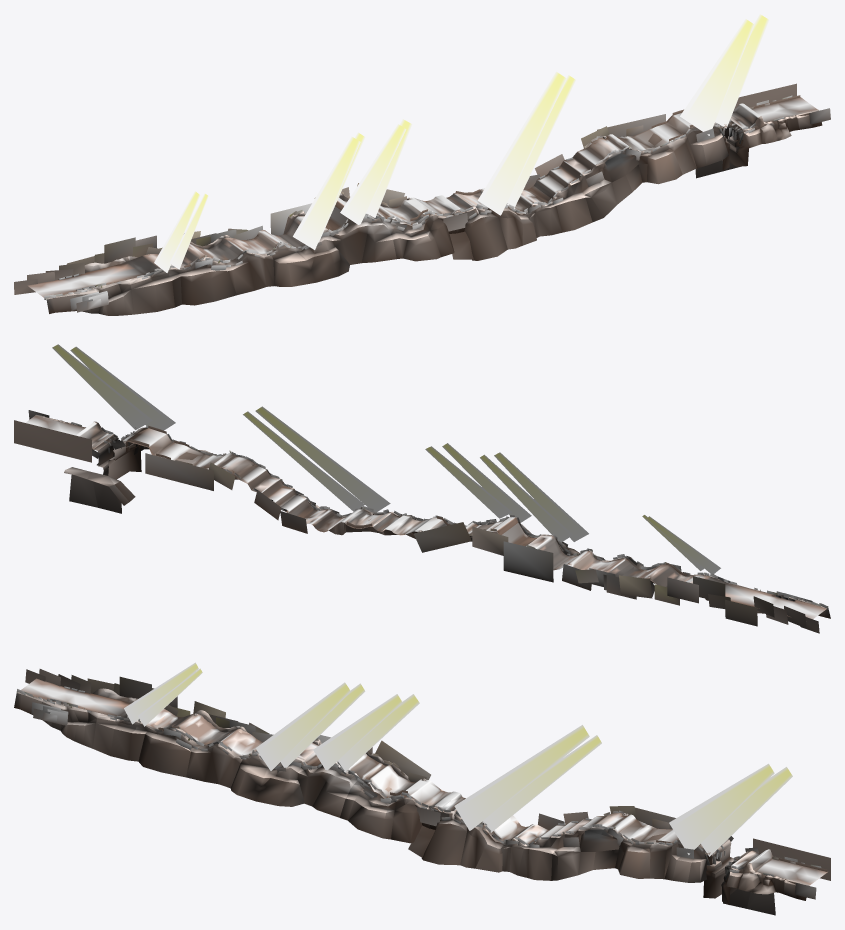
Rendered from Forest_04.fbx.
The picture shows the model from 3 angles, top to bottom: view 1: azimuth 30°, elevation 25°; view 2: azimuth 150°, elevation 25°; view 3: azimuth 330°, elevation 25°; orthographic projection. The views are drawn at different scales.
Visible parts, largest first — view 1: Mountain_01, Light_01, Ground_01, Tree_01; view 2: Tree_01, Light_01, Ground_01, Mountain_01; view 3: Mountain_01, Light_01, Tree_01, Ground_01.
Part boxes in pixels (box(x1,y1,x2,y2)): Mountain_01: box(46, 109, 822, 315); Light_01: box(154, 14, 769, 272); Ground_01: box(27, 97, 817, 297); Tree_01: box(14, 83, 830, 312); Tree_01: box(14, 410, 828, 633); Light_01: box(52, 344, 720, 574); Ground_01: box(25, 415, 826, 619); Mountain_01: box(35, 414, 830, 618); Mountain_01: box(14, 688, 809, 915); Light_01: box(124, 662, 792, 856); Tree_01: box(16, 669, 830, 899); Ground_01: box(21, 678, 827, 885).
Size of the model in its own units: 35930 by 6488 by 4200.
